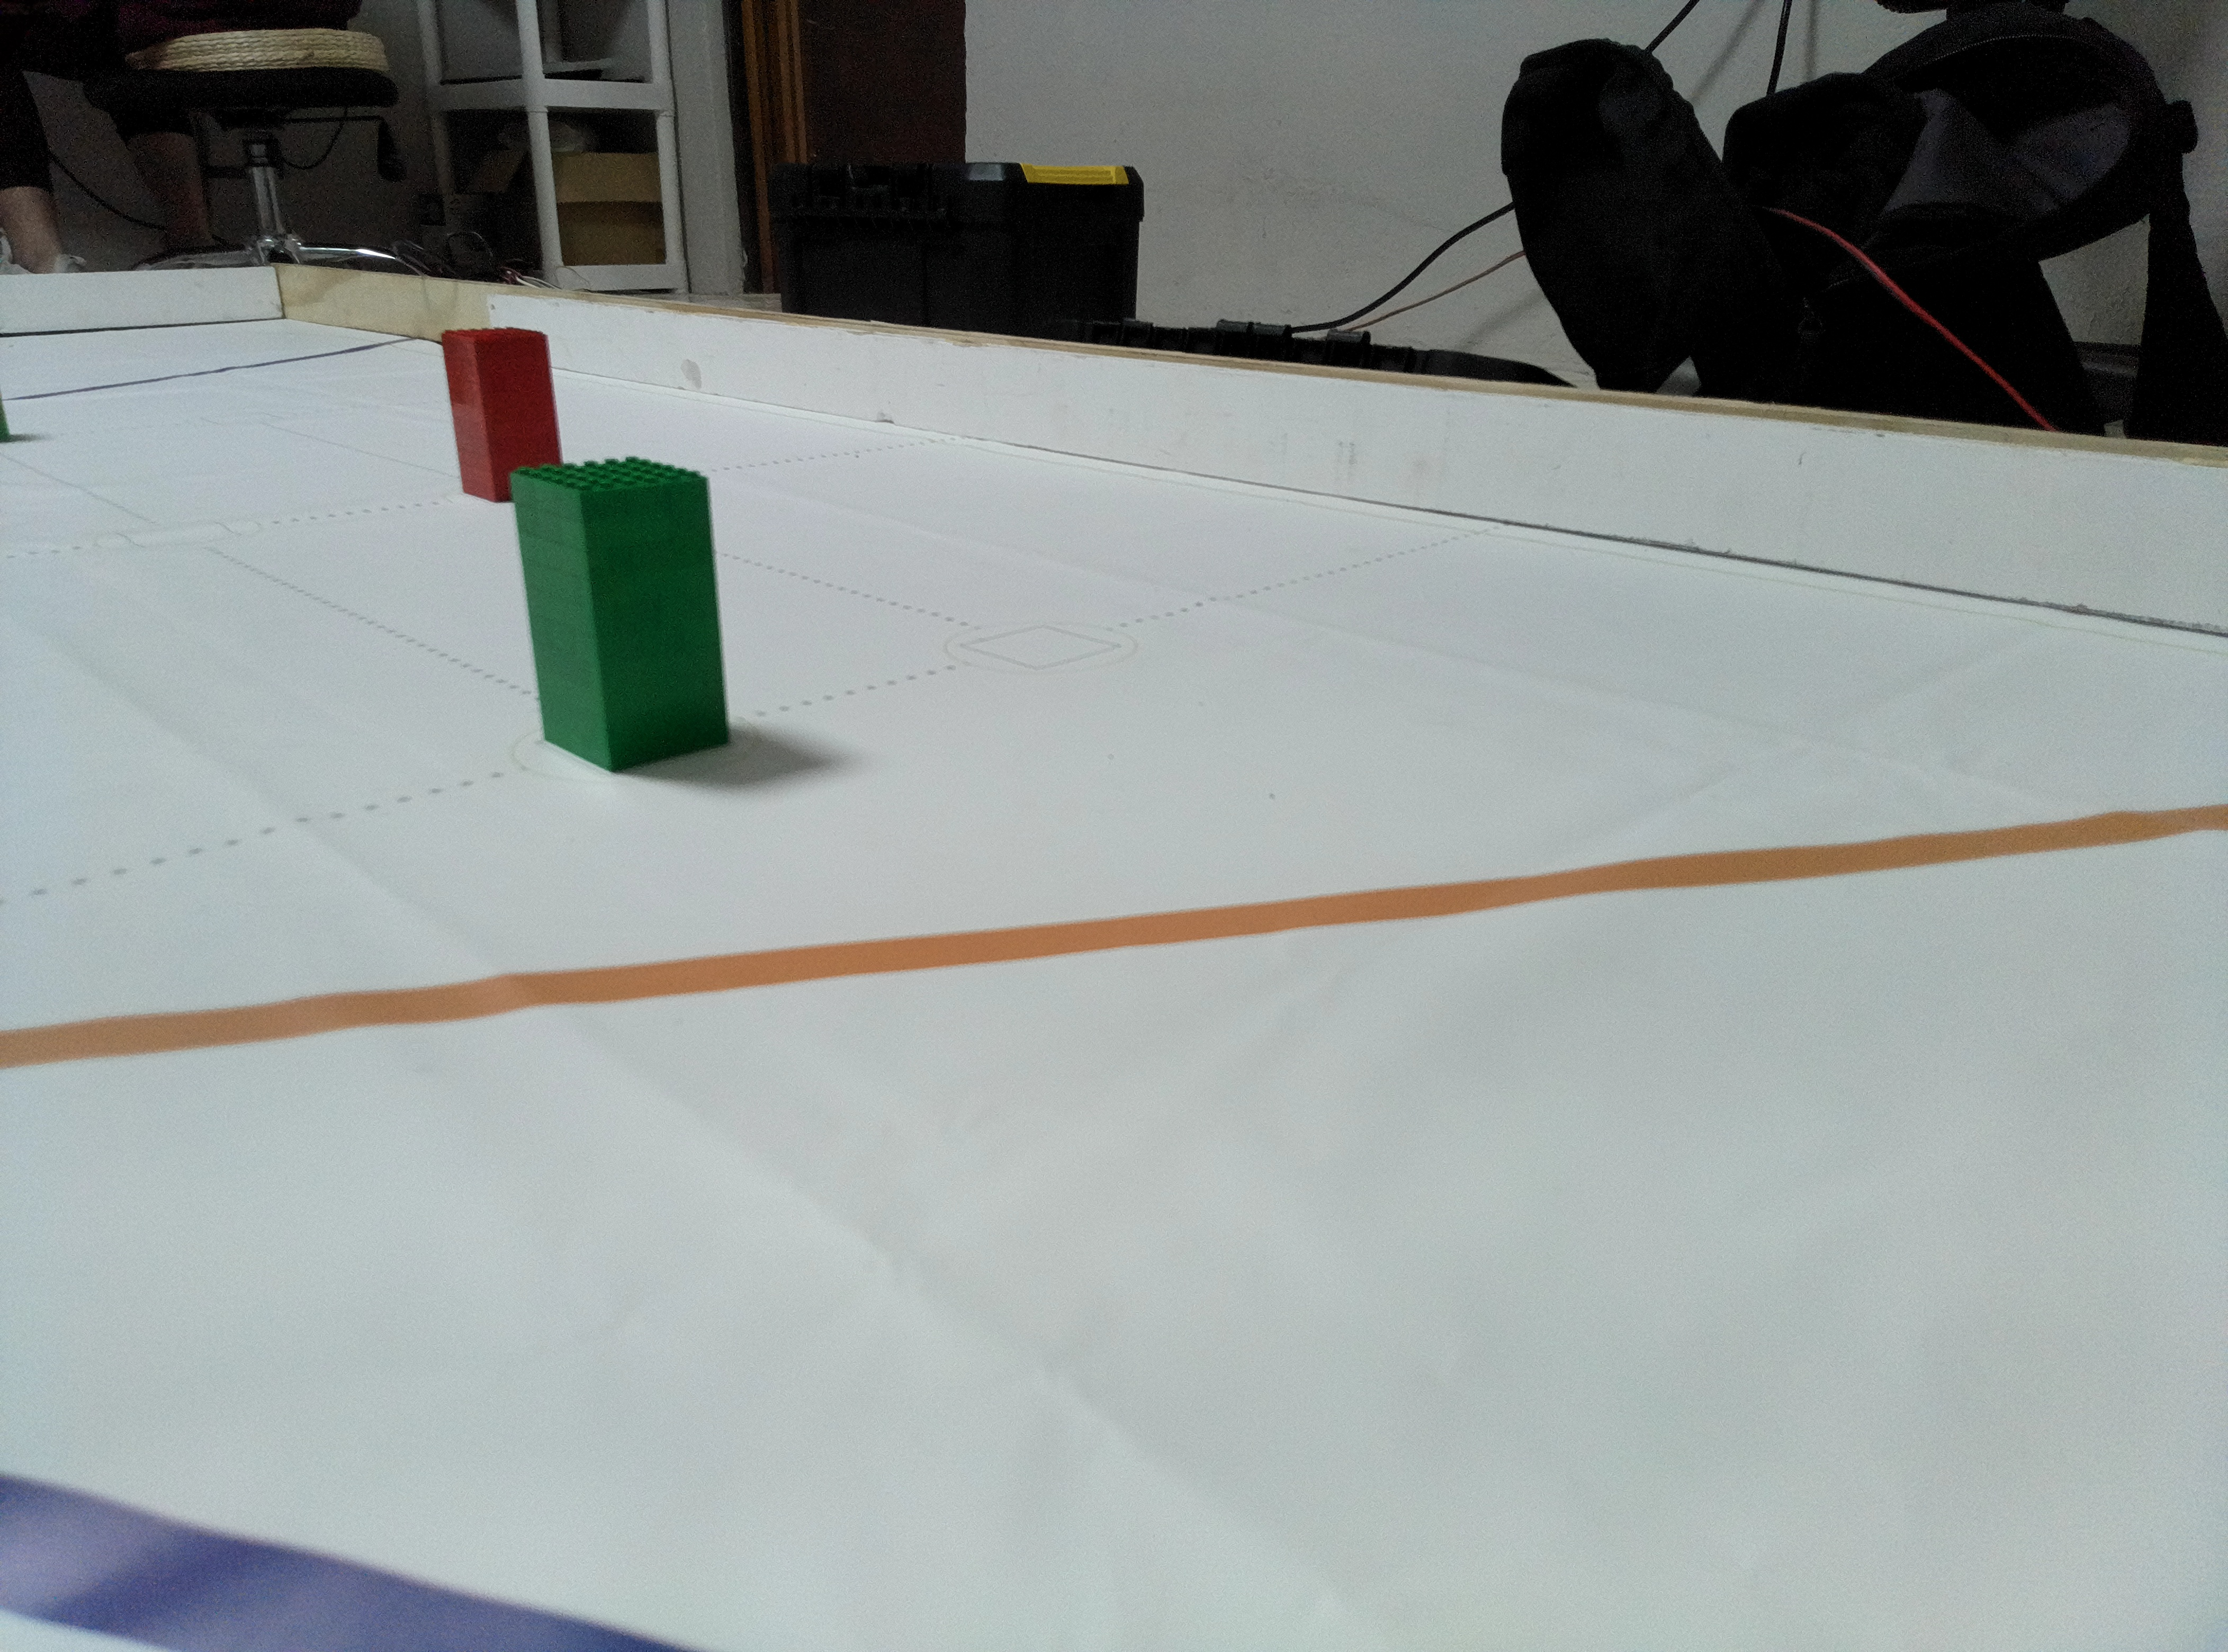greenbox: (508, 462, 755, 770)
redbox: (437, 326, 576, 500)
